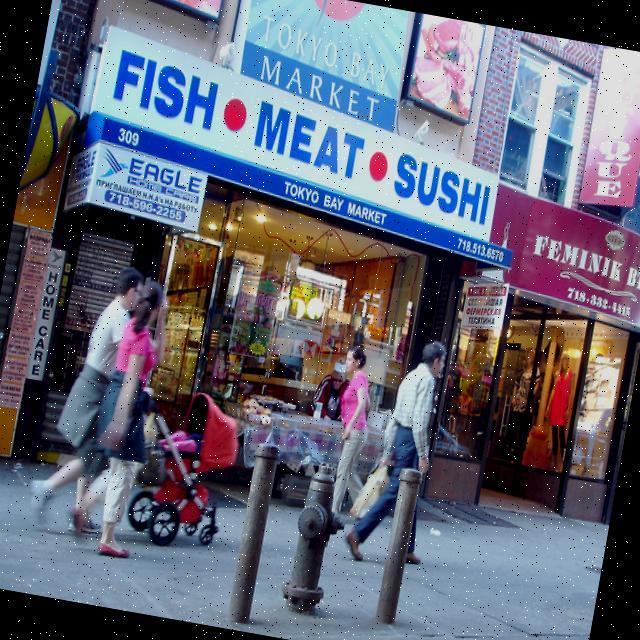fire_hydrant: (276, 455, 356, 618)
